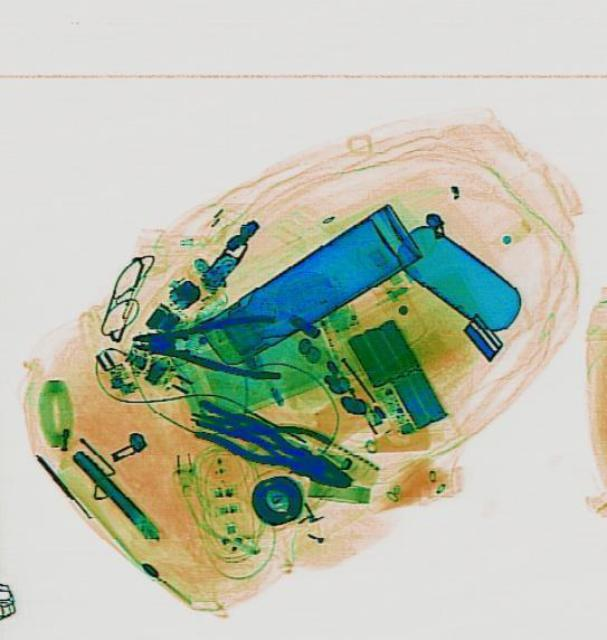Pliers: (183, 390, 358, 498), (127, 306, 282, 378)
